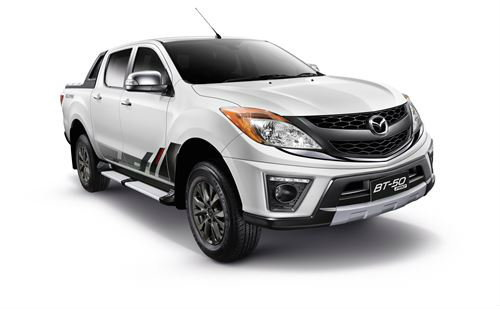pickup: (58, 32, 438, 264)
